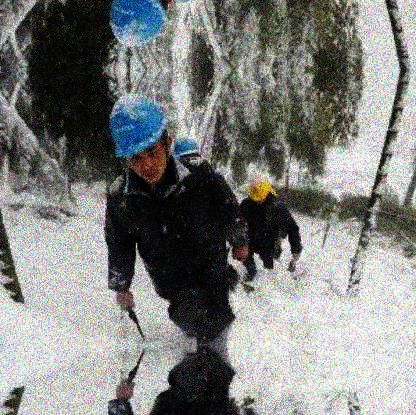helmet: (108, 95, 173, 183), (247, 180, 271, 205)
